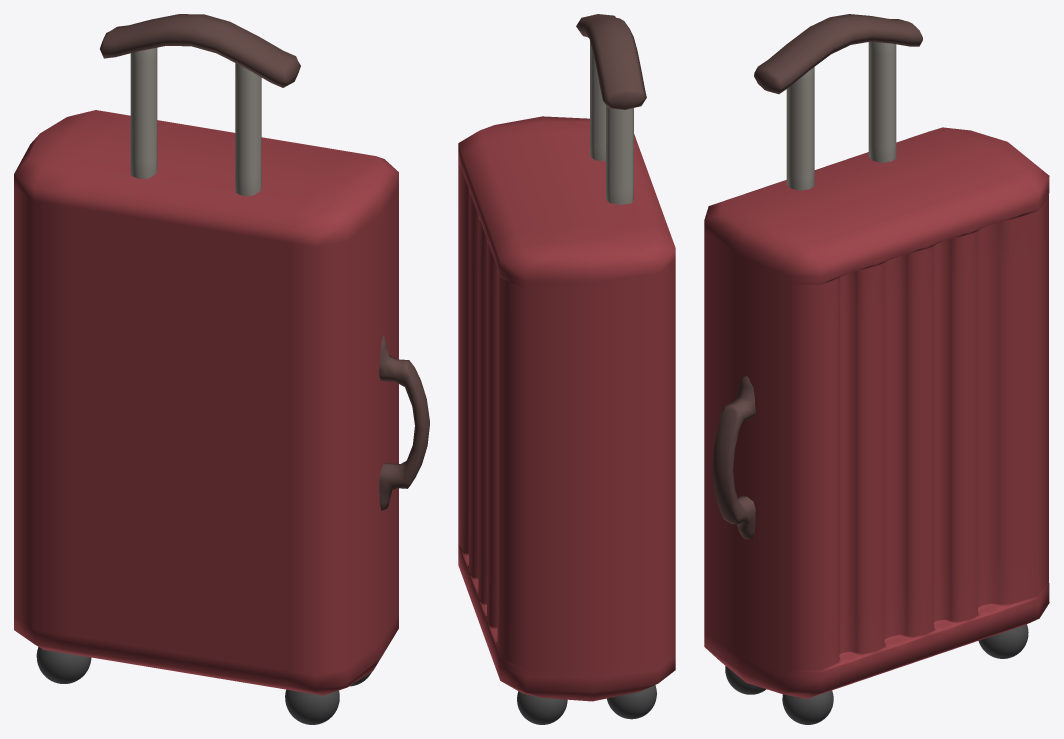
The model's file is suitcase.fbx.
3 renders of one model, left to right at view 1: azimuth 30°, elevation 25°; view 2: azimuth 150°, elevation 25°; view 3: azimuth 270°, elevation 25°, orthographic. The views are drawn at different scales.
Parts seen in each view (by area): view 1: pCube20; view 2: pCube20; view 3: pCube20.
Part boxes in pixels (x1=…): pCube20: x1=14, y1=14, x2=429, y2=724; pCube20: x1=458, y1=14, x2=675, y2=724; pCube20: x1=704, y1=14, x2=1049, y2=724.
Bounding box in the file's own units: 3.69 × 8.24 × 4.01.
